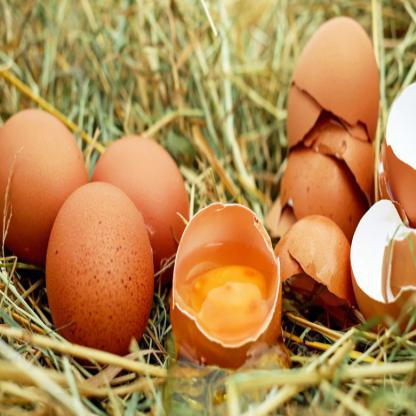egg: (70, 110, 204, 266), (50, 180, 156, 361), (0, 94, 101, 263)
